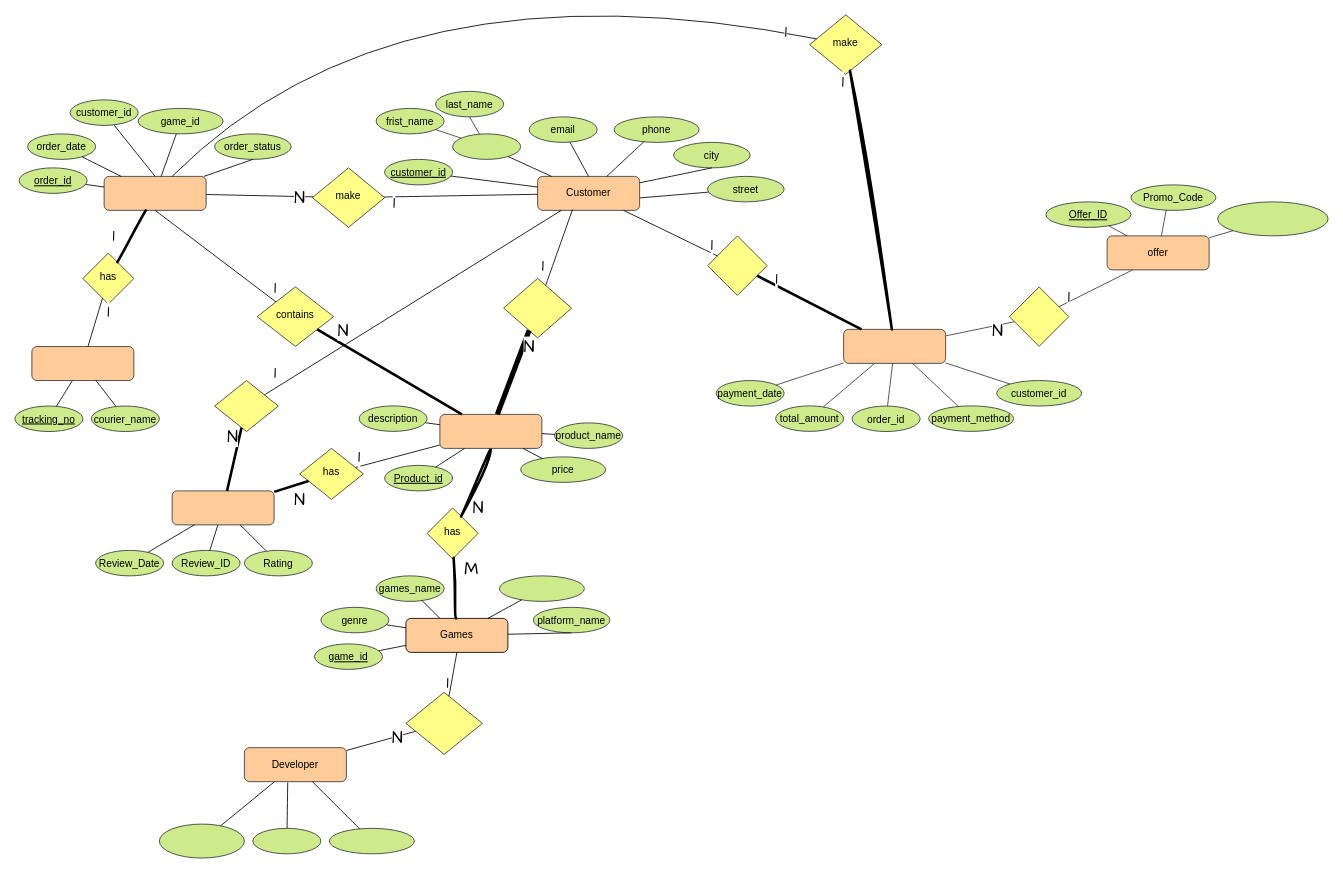
Image size: 1343x873. Some labels were removed from this diagram. The centre of each missing label's shape, as x and y in pixels:
"applied_to" goes at point (1039, 316).
"contactemail" goes at point (371, 840).
"Create" goes at point (737, 265).
"developer_name" goes at point (201, 840).
"gives" goes at point (246, 406).
"Managed By" goes at point (443, 722).
"max_no_players" goes at point (541, 588).
"name" goes at point (486, 146).
"Orders" goes at point (154, 193).
"Payment" goes at point (894, 346).
"Percentage_Discount" goes at point (1272, 218).
"Product" goes at point (490, 431).
"product_feedback" goes at point (222, 507).
"purchase" goes at point (537, 308).
"Tracking Detail" goes at point (82, 363).
"website" goes at point (286, 840).
